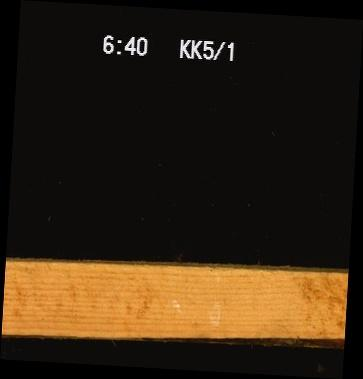wave: (145, 330, 344, 347)
